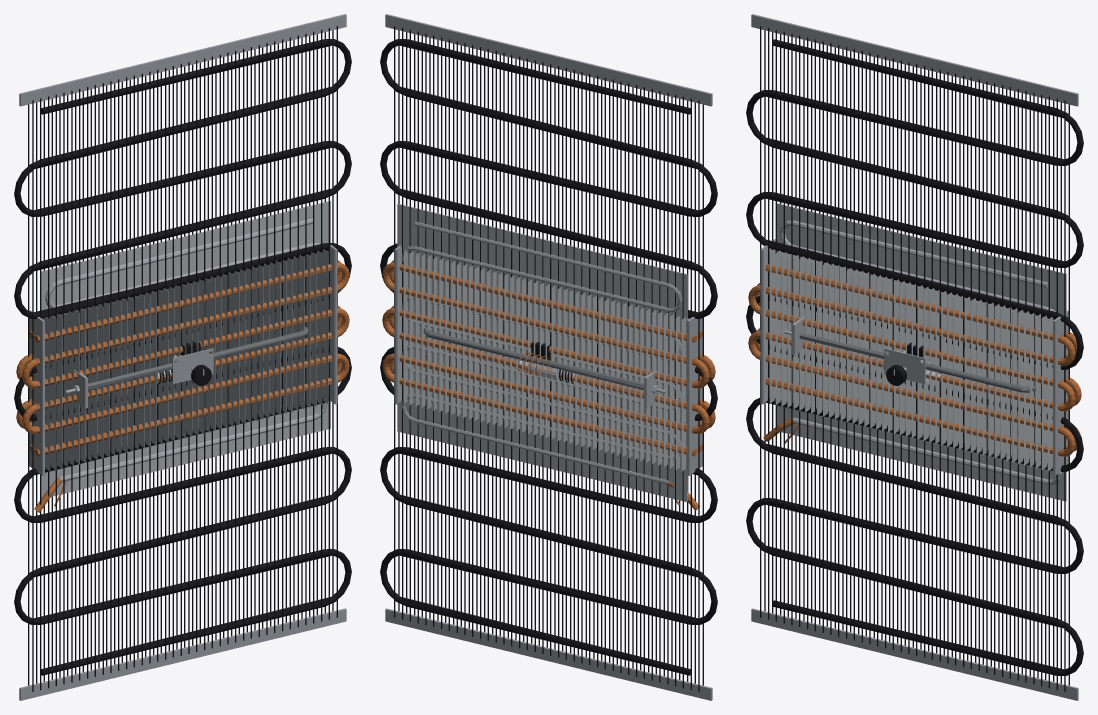
File: frio_calor.glb
3 views of the same model, side by side, from view 1: azimuth 30°, elevation 25°; view 2: azimuth 150°, elevation 25°; view 3: azimuth 330°, elevation 25° (orthographic).
Parts seen in each view (by area): view 1: condensador, condensador@aletas, evaporador, resistencia, termostato; view 2: condensador, condensador@aletas, evaporador, resistencia, valvula; view 3: condensador, condensador@aletas, evaporador, resistencia, termostato.
Boxes of the visible parts, bbox=[...] form: condensador: bbox=[14, 14, 351, 700]; condensador@aletas: bbox=[16, 245, 349, 475]; evaporador: bbox=[34, 201, 330, 512]; resistencia: bbox=[65, 326, 308, 408]; termostato: bbox=[172, 348, 213, 385]; condensador: bbox=[380, 14, 717, 700]; condensador@aletas: bbox=[382, 246, 715, 475]; evaporador: bbox=[397, 203, 700, 510]; resistencia: bbox=[423, 327, 666, 408]; valvula: bbox=[515, 341, 574, 384]; condensador: bbox=[746, 14, 1083, 700]; condensador@aletas: bbox=[748, 239, 1081, 475]; evaporador: bbox=[763, 203, 1066, 501]; resistencia: bbox=[784, 316, 1035, 392]; termostato: bbox=[884, 348, 925, 385].
Bounding box in the file's own units: 46.49 × 80 × 9.9.
